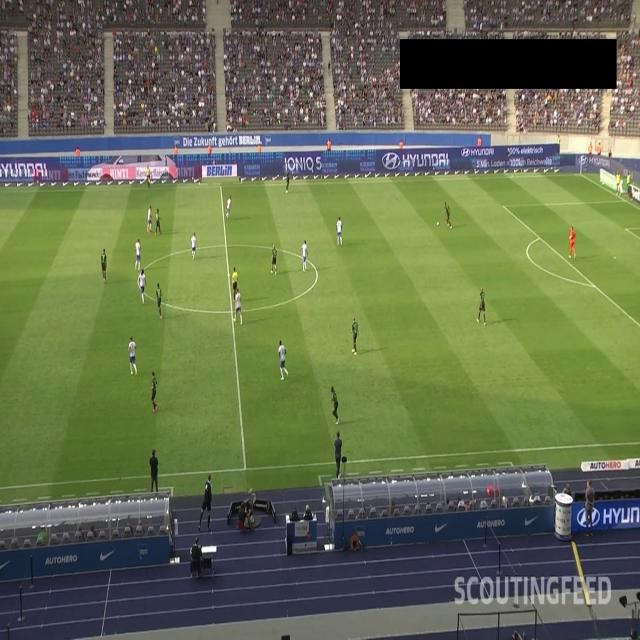ball: (436, 219, 440, 229)
player: (276, 338, 289, 378), (127, 334, 139, 374), (154, 281, 166, 320), (137, 268, 149, 306), (330, 385, 340, 420), (298, 237, 308, 271), (351, 317, 360, 354), (478, 286, 486, 326), (269, 242, 279, 272), (234, 287, 242, 324), (444, 201, 454, 229), (151, 370, 158, 408), (569, 225, 577, 257), (336, 215, 344, 247), (134, 238, 142, 270), (101, 247, 108, 280), (146, 204, 153, 232), (190, 233, 197, 259), (225, 196, 231, 220), (286, 170, 291, 193)
